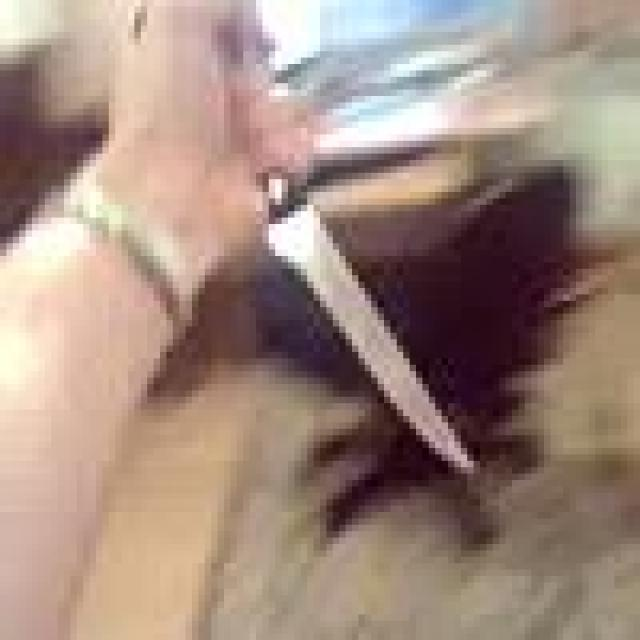weapon: (121, 13, 492, 499)
